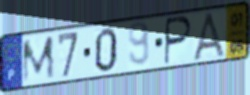0: (93, 26, 120, 74)
7: (56, 30, 80, 80)
9: (127, 21, 151, 72)
A: (191, 10, 229, 62)
M: (21, 33, 57, 85)
P: (163, 15, 194, 67)
